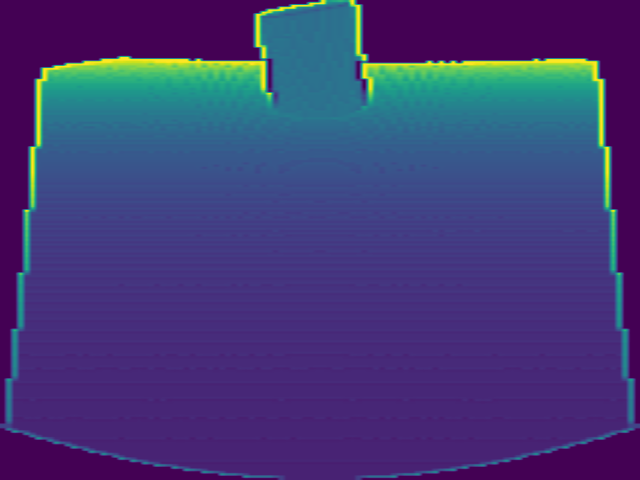cylinder: (253, 3, 368, 118)
